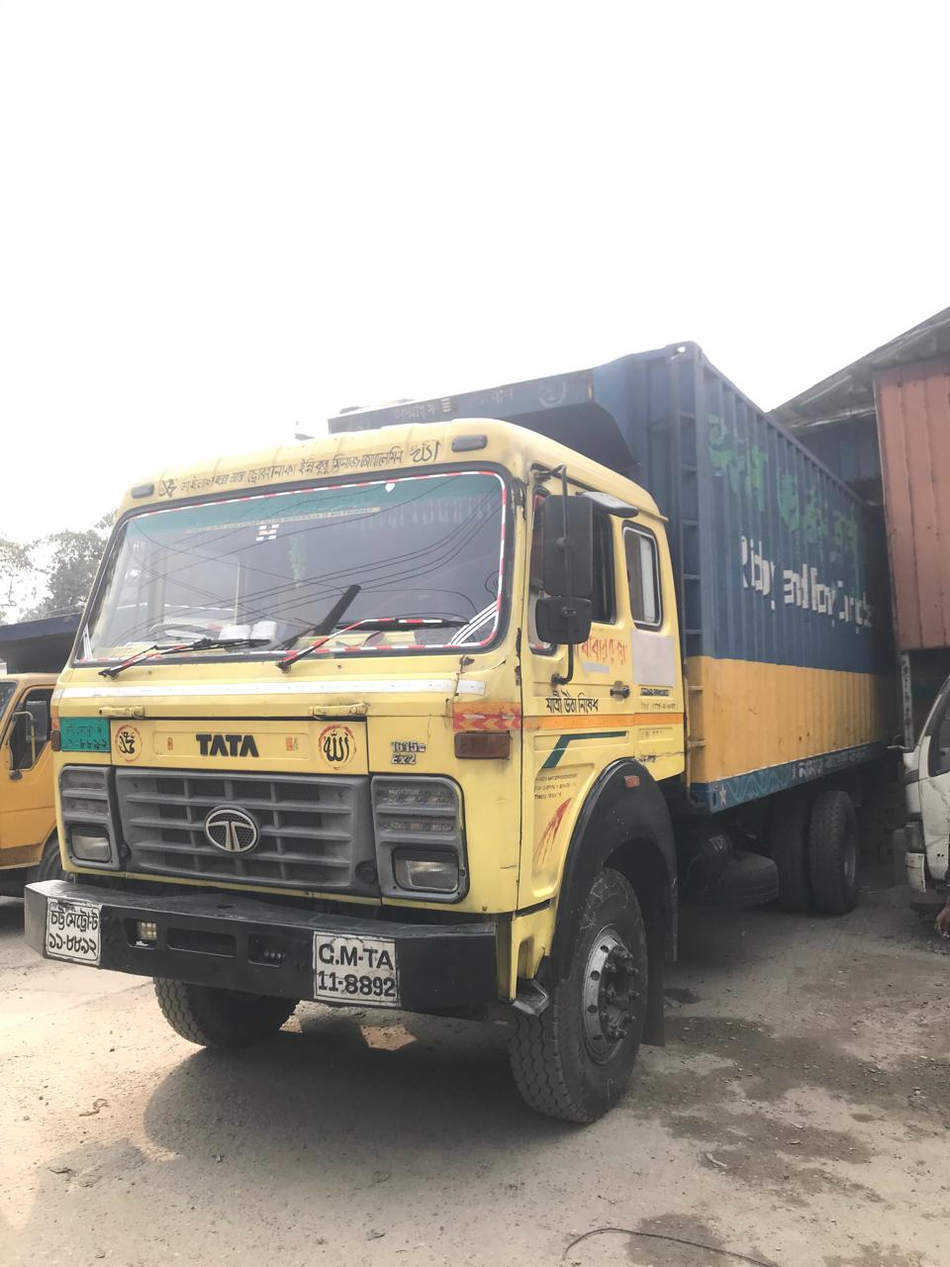Truck: (46, 338, 902, 1146)
